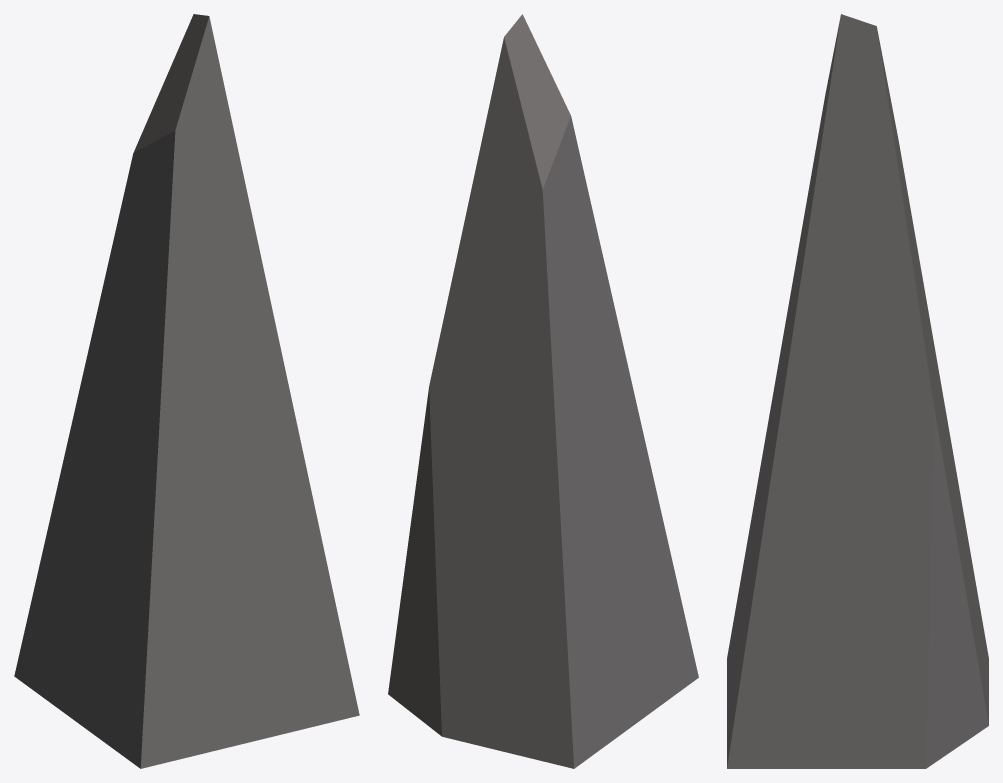
The model's file is Rock_Sharp_s_01.fbx.
The picture shows the model from 3 angles, left to right: view 1: azimuth 30°, elevation 25°; view 2: azimuth 150°, elevation 25°; view 3: azimuth 270°, elevation 25°; orthographic projection. The views are drawn at different scales.
Parts seen in each view (by area): view 1: Rock_Sharp_s_01; view 2: Rock_Sharp_s_01; view 3: Rock_Sharp_s_01.
Boxes of the visible parts, left/top/right/bottom form: Rock_Sharp_s_01: left=14, top=14, right=359, bottom=768; Rock_Sharp_s_01: left=388, top=14, right=698, bottom=768; Rock_Sharp_s_01: left=727, top=14, right=988, bottom=768.
Size of the model in its own units: 24.39 by 72.63 by 24.39.
